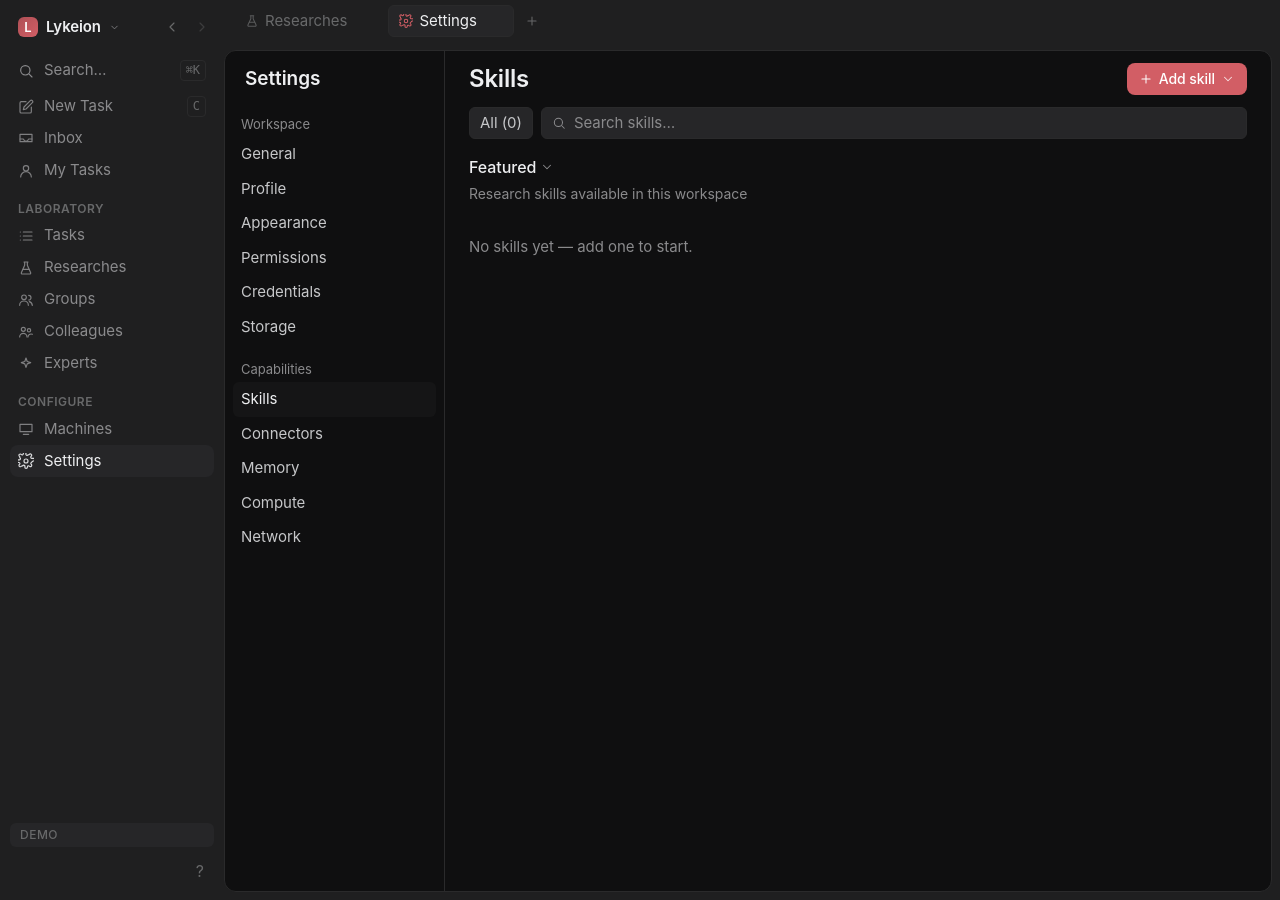
creates a skill from the Add › Write from scratch form
Click the link "Settings". click: click(112, 461)
box: [10, 445, 214, 477]
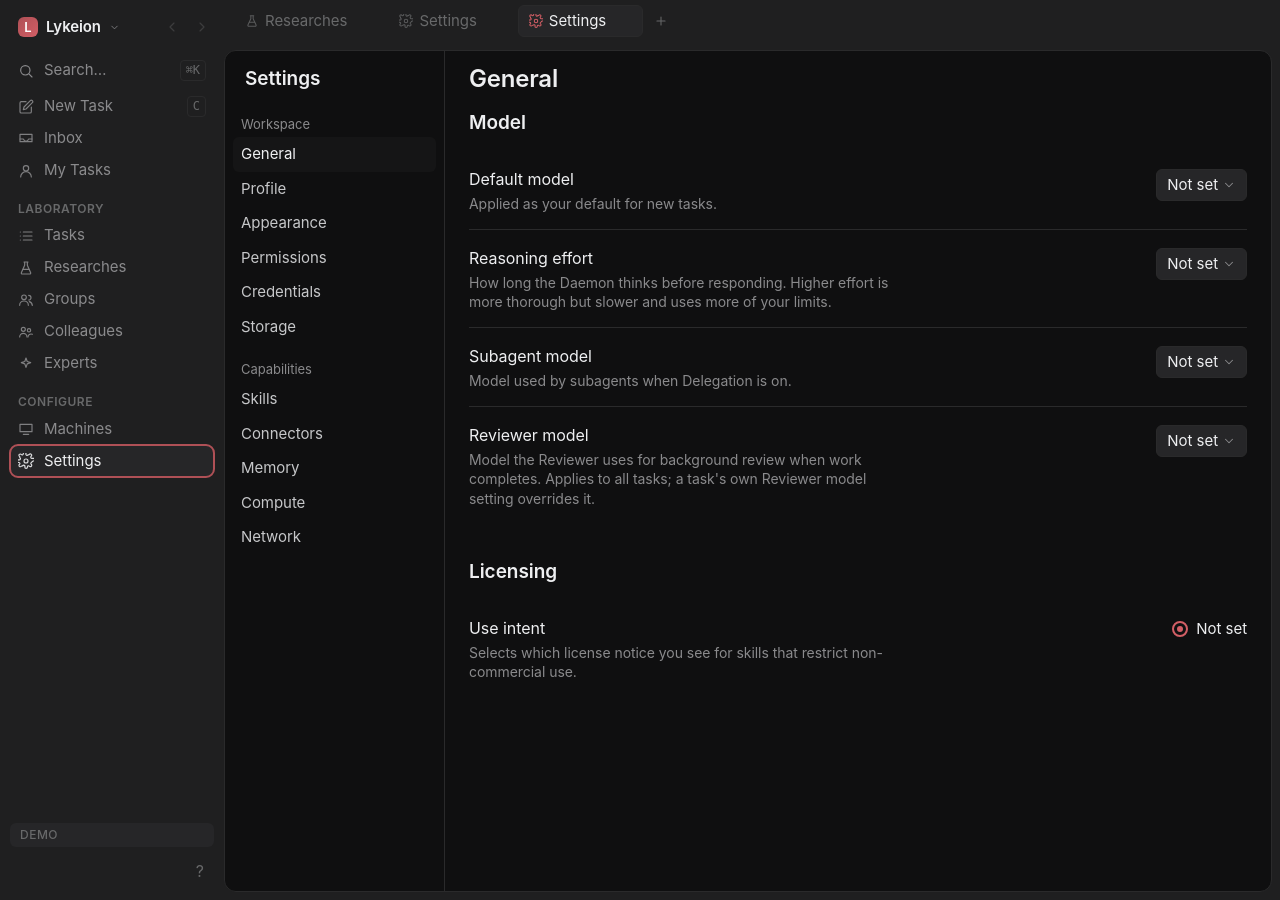
Click the button "Skills". click: click(334, 400)
box: [233, 382, 436, 417]
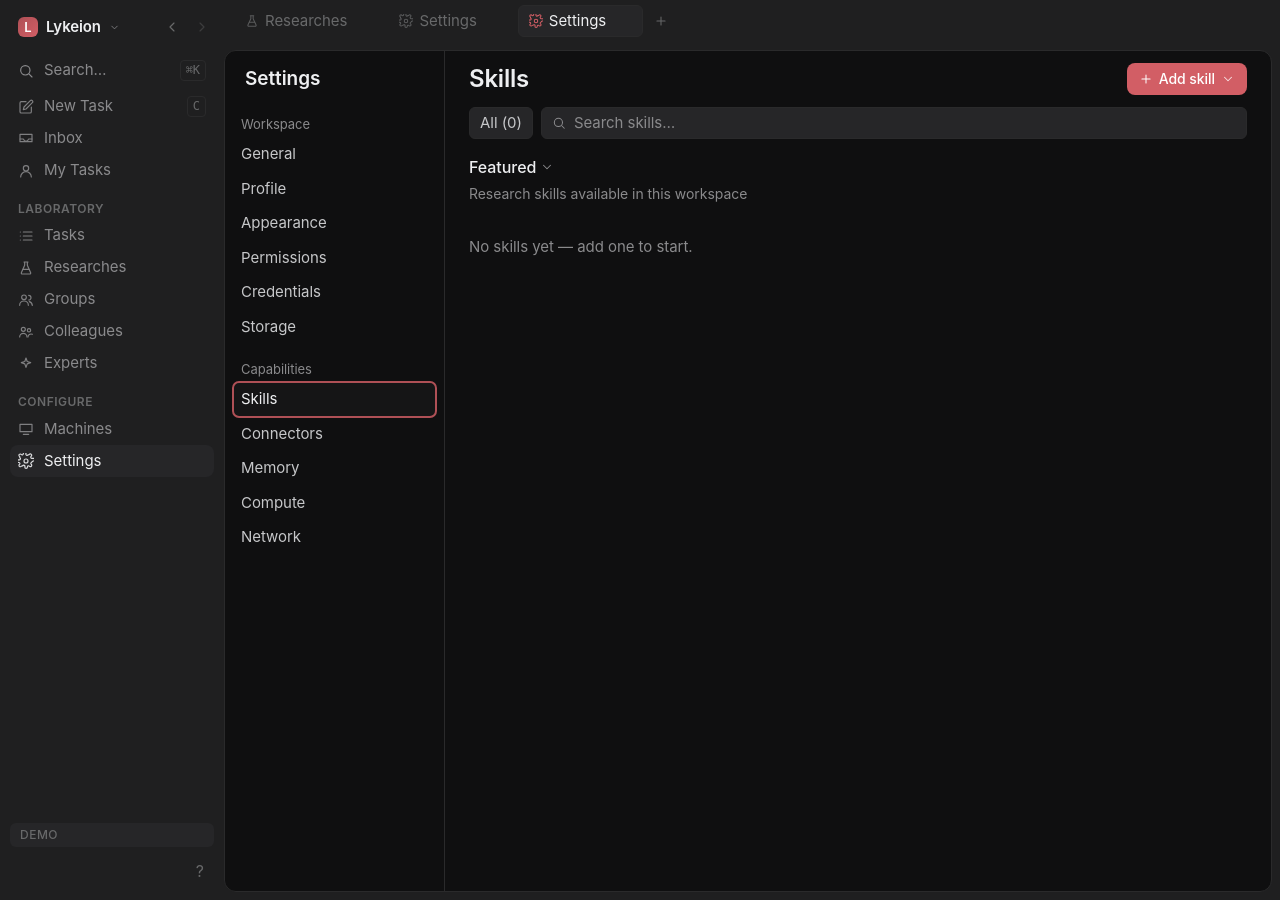
Click the button "Add skill". click: click(1187, 79)
box: [1127, 63, 1247, 95]
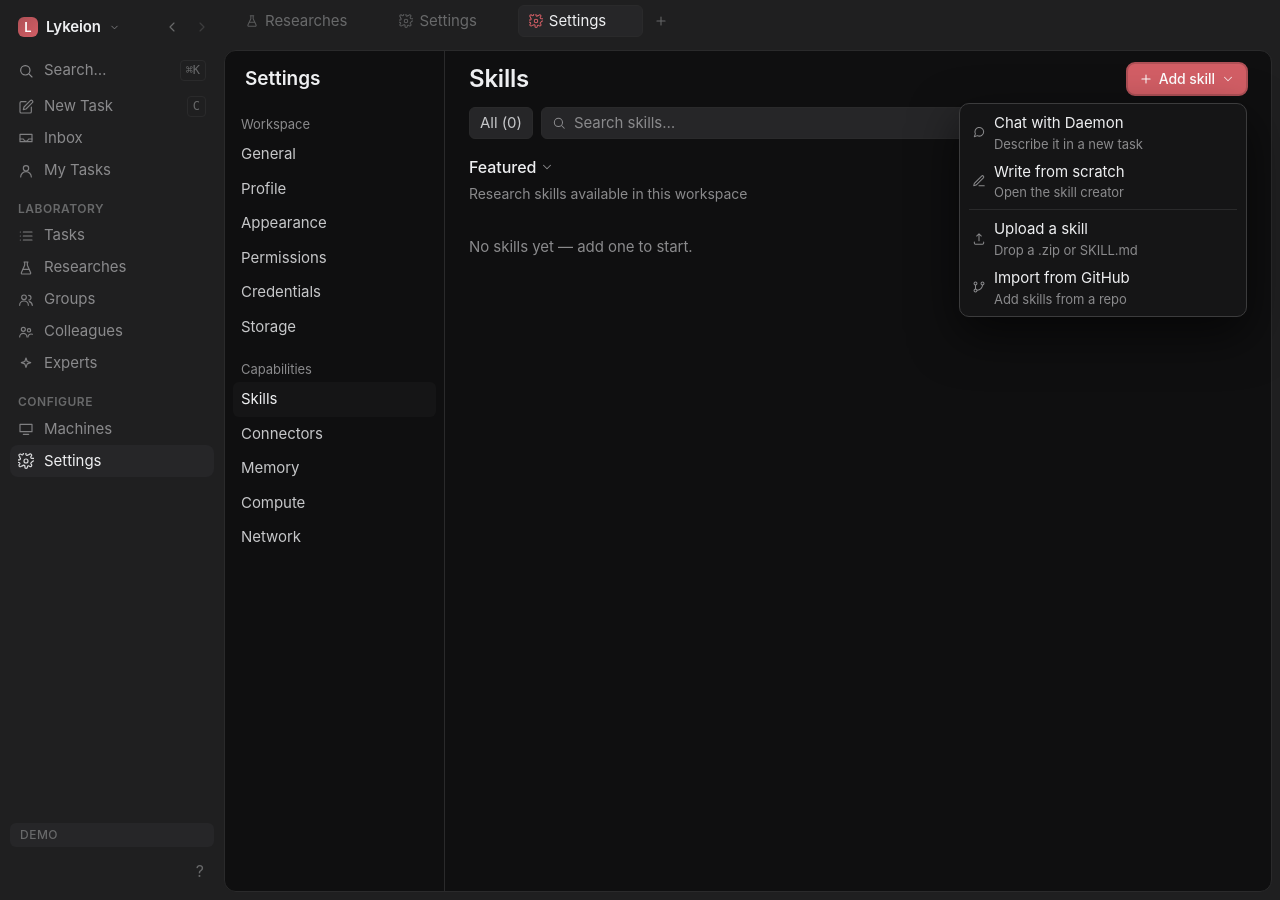
Click the menu item "Write from scratch Open the skill creator". click: click(1103, 181)
box: [964, 157, 1242, 205]
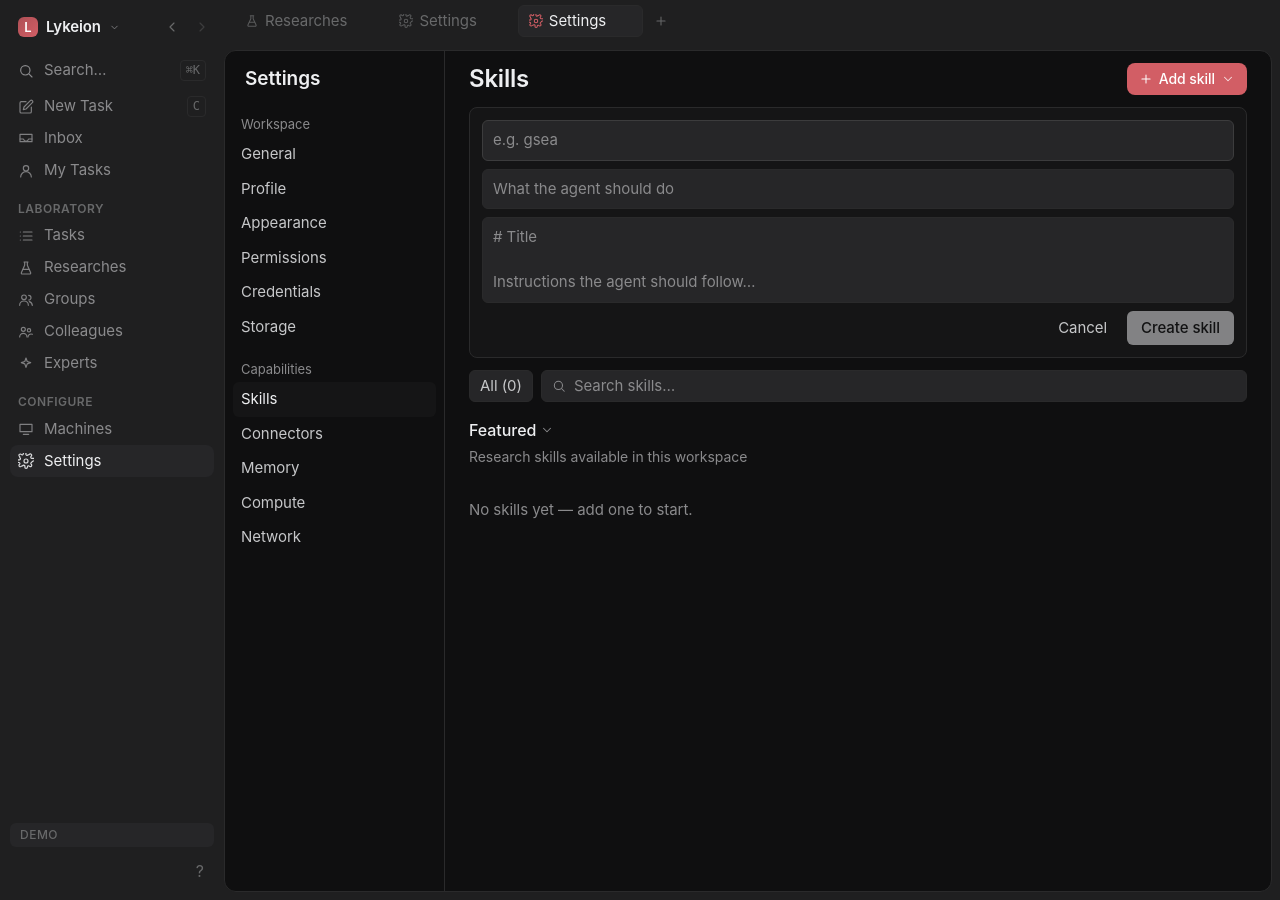
Type "gsea" into the field with placeholder "e.g. gsea". click: (858, 140)
box: [482, 120, 1234, 160]
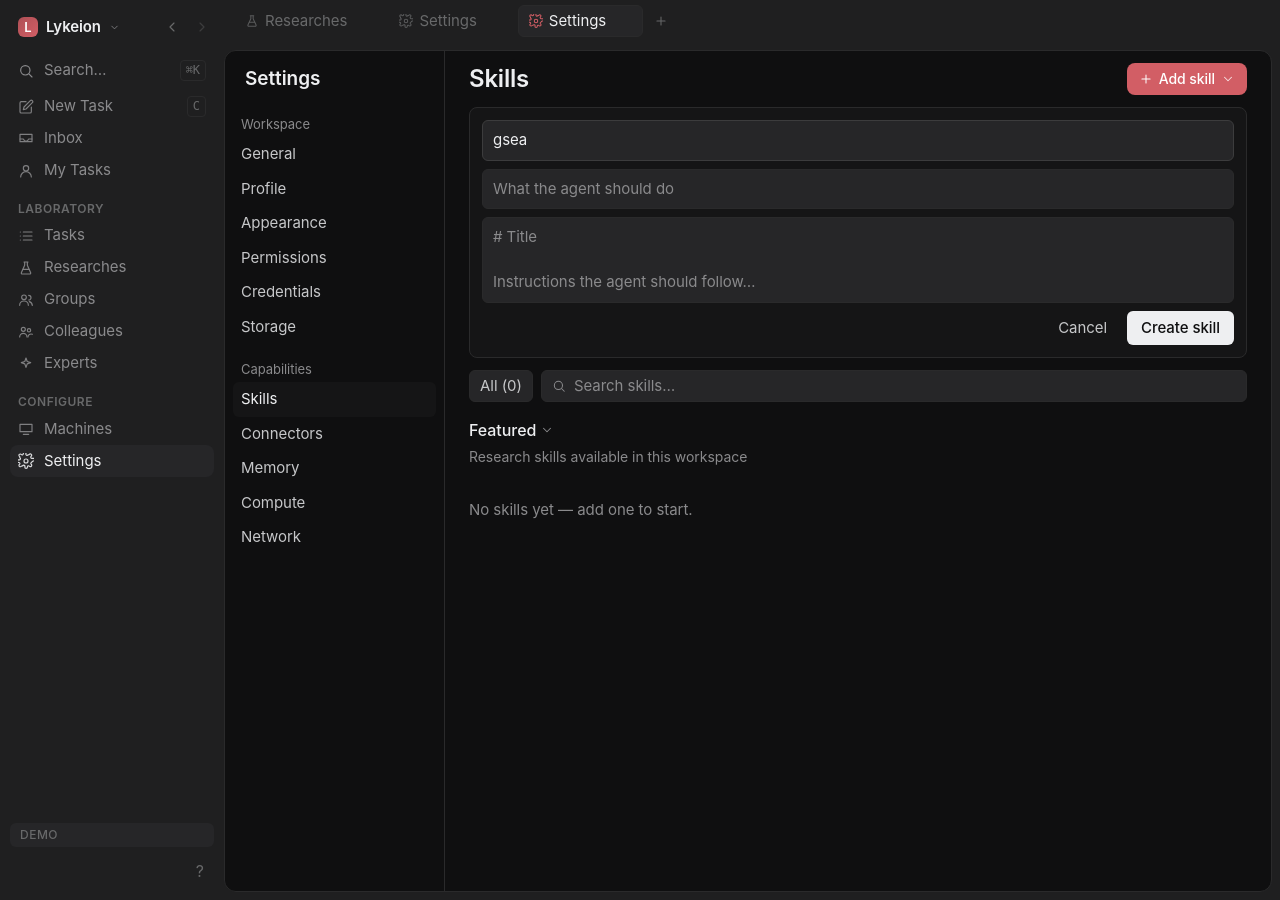
Click the button "Create skill". click: click(1180, 328)
box: [1127, 310, 1234, 345]
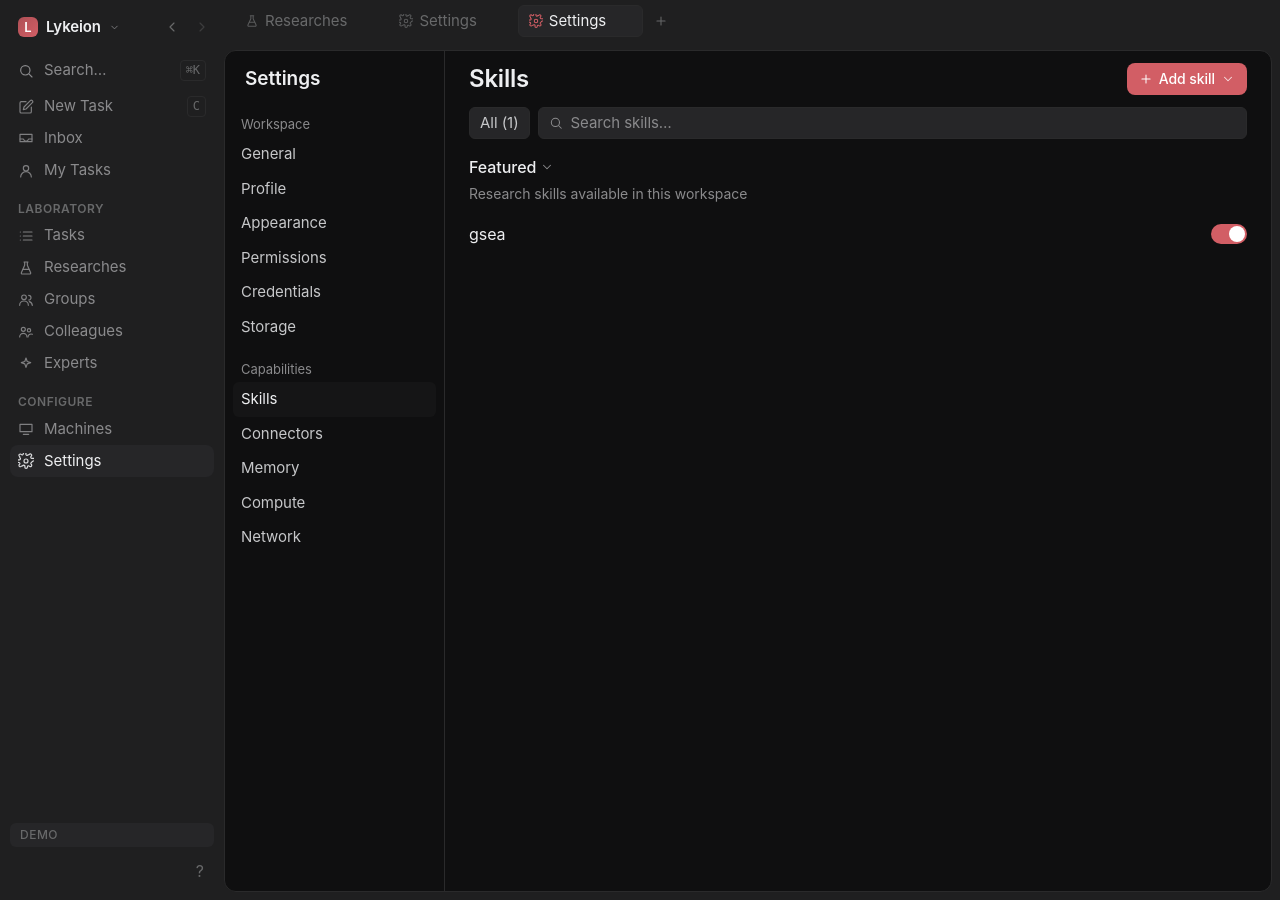
Expected: the text "gsea" is shown, [469, 222, 506, 247]
